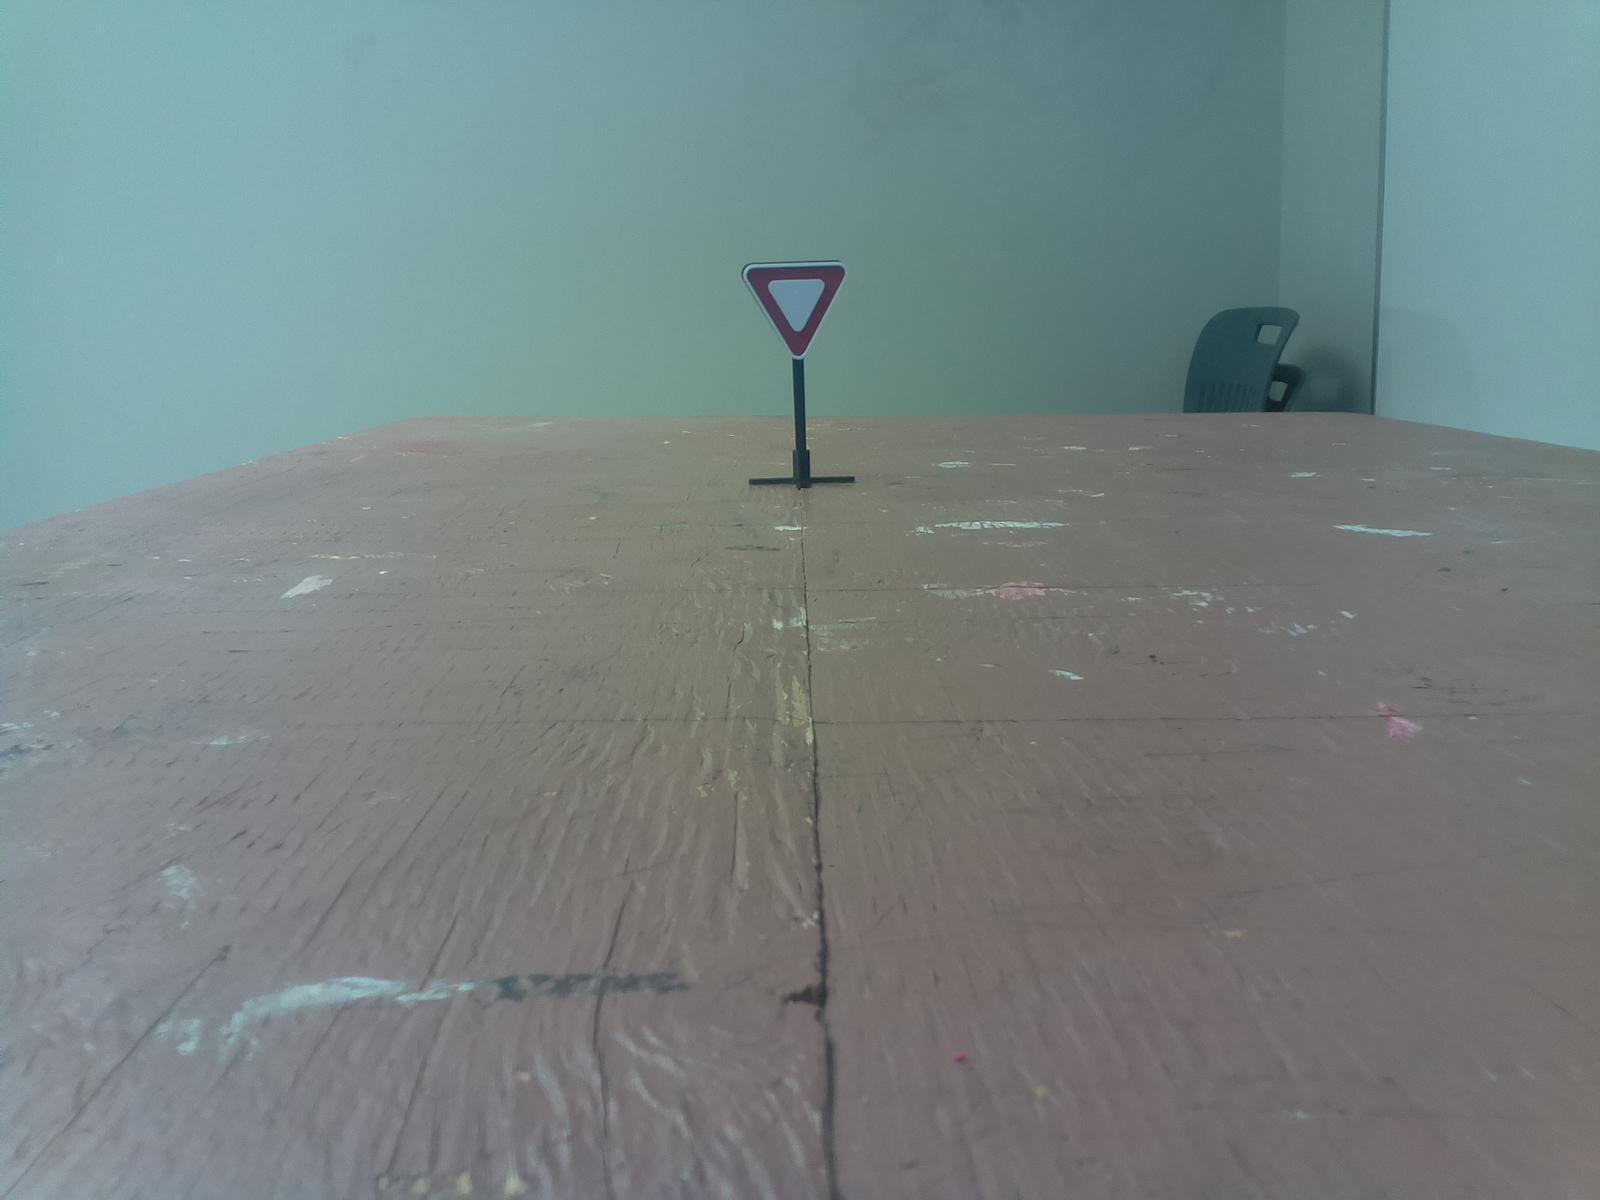sign_yield: (729, 255, 860, 367)
